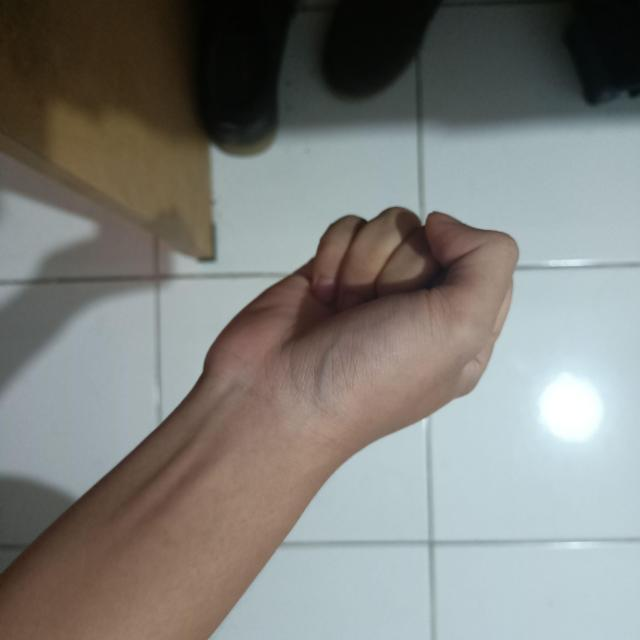fist: (202, 198, 526, 453)
